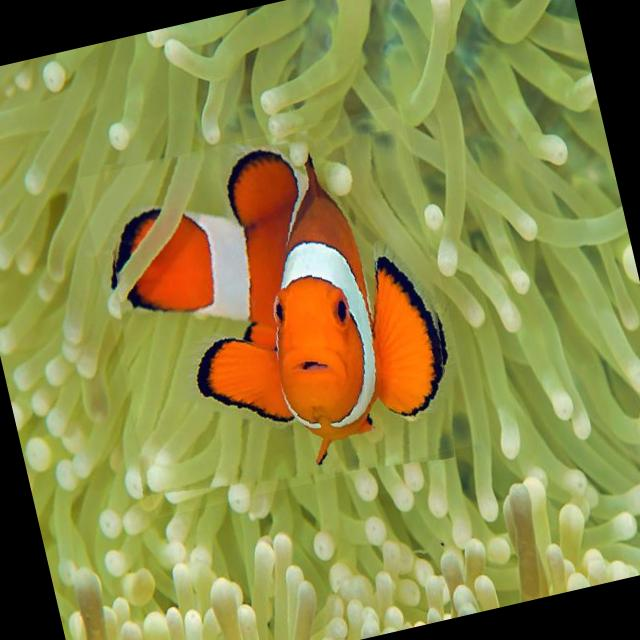ClownFish: (78, 103, 479, 518)
